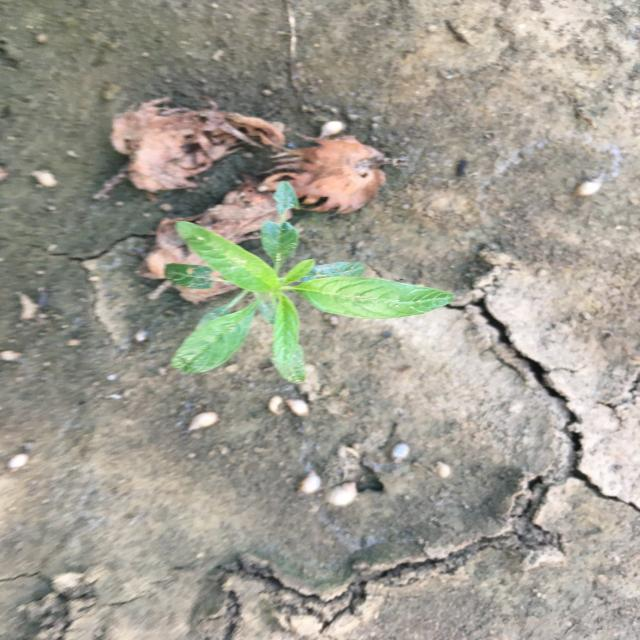Waterhemp: (160, 180, 458, 386)
